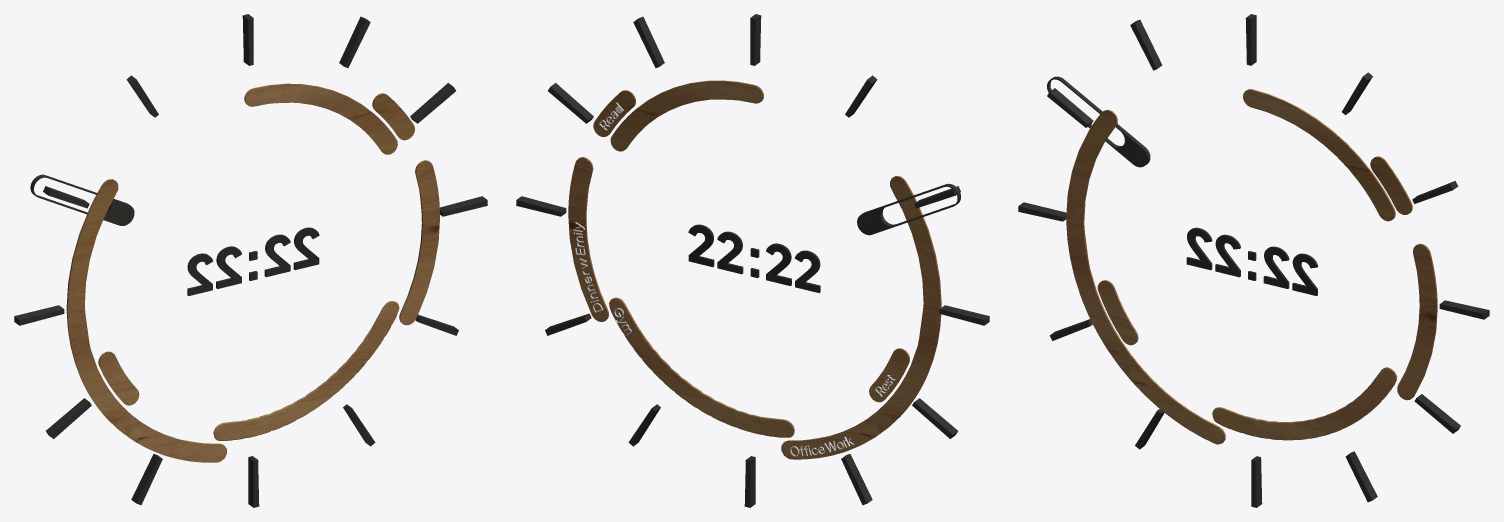
Rendered from WallClock_01.fbx.
3 views of the same model, side by side, from view 1: azimuth 30°, elevation 25°; view 2: azimuth 150°, elevation 25°; view 3: azimuth 330°, elevation 25° (orthographic).
Visible parts, largest first — view 1: Final; view 2: Final; view 3: Final.
Boxes of the visible parts, bbox=[...] form: Final: bbox=[14, 14, 487, 507]; Final: bbox=[516, 14, 989, 507]; Final: bbox=[1018, 14, 1489, 507].
Bounding box in the file's own units: 0.8667 × 0.8667 × 0.0325.
3 materials, 2 textured.
